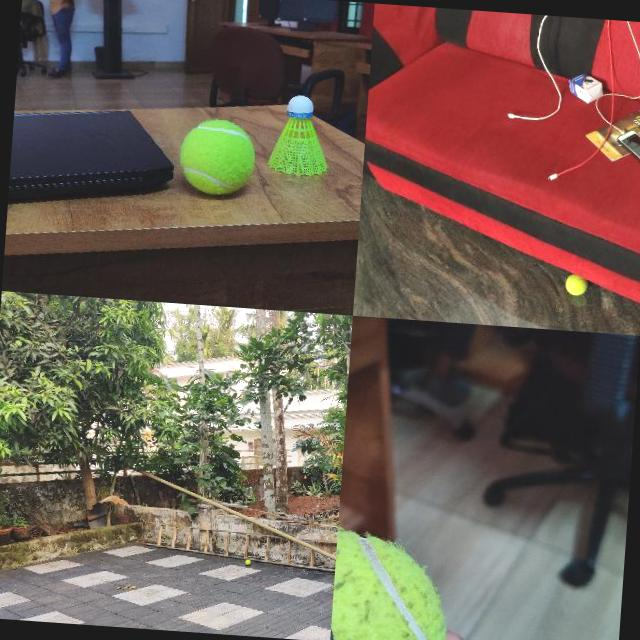tennis-ball: (329, 524, 455, 640), (177, 117, 256, 196), (564, 278, 588, 296), (244, 558, 250, 564)
